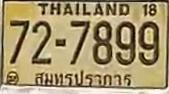2: (31, 20, 51, 63)
7: (9, 19, 29, 63), (70, 20, 90, 64)
8: (92, 20, 111, 64)
9: (138, 20, 159, 65), (115, 20, 135, 64)
SPK: (32, 70, 135, 89)
